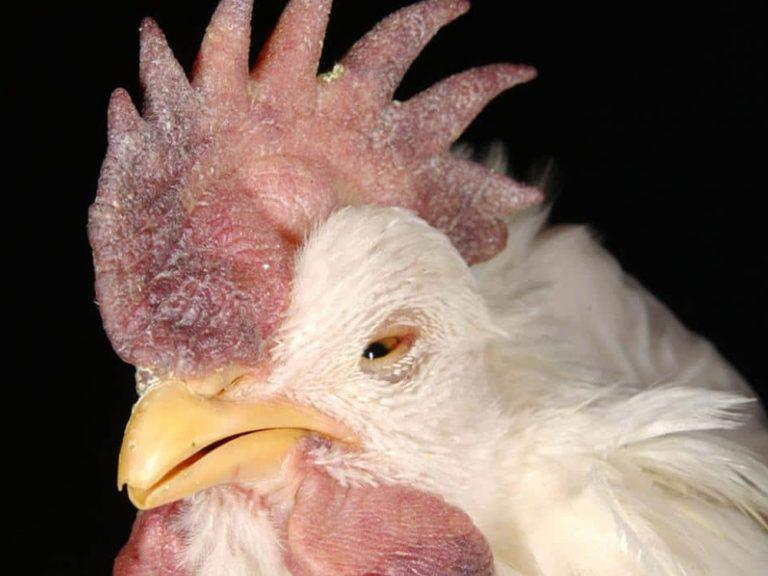AbNormal: (89, 0, 768, 576)
